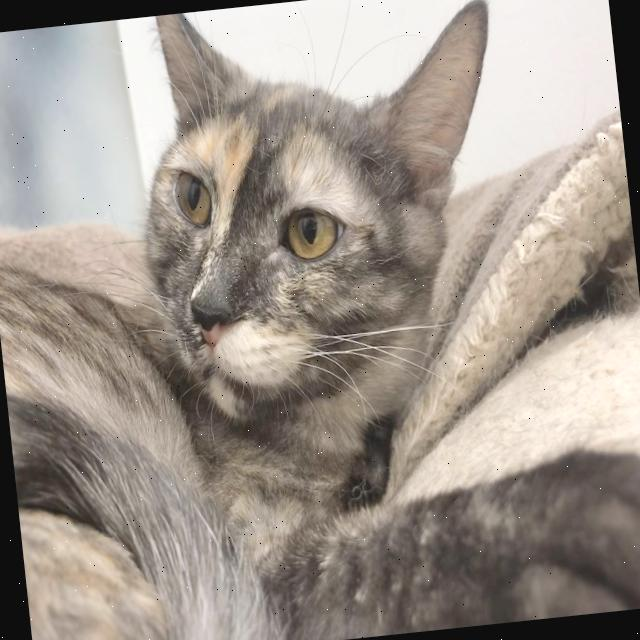american_shorthair_cat: (106, 0, 533, 460)
